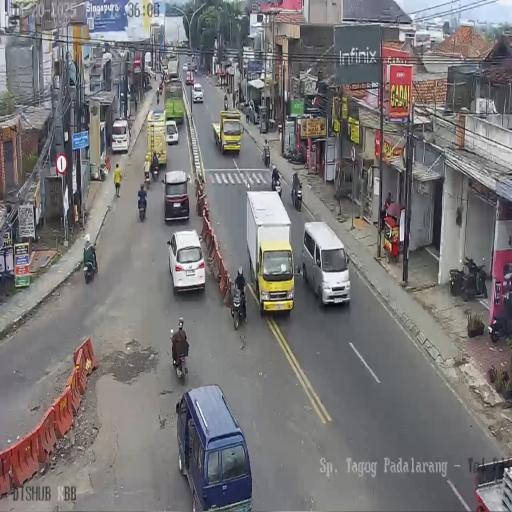car: (176, 384, 252, 510), (303, 220, 352, 307), (167, 230, 206, 294), (162, 168, 190, 222), (111, 118, 130, 154), (165, 120, 179, 147), (192, 84, 203, 104), (185, 70, 194, 86), (191, 60, 198, 72), (162, 67, 168, 81), (182, 63, 188, 71)
motorcycle: (450, 254, 488, 301), (489, 271, 512, 340), (231, 280, 248, 330), (170, 332, 188, 378), (84, 248, 98, 284), (284, 145, 305, 165), (291, 178, 302, 211), (138, 192, 147, 222), (152, 157, 159, 181), (263, 144, 270, 167), (144, 164, 151, 183), (245, 104, 250, 124), (277, 120, 282, 135), (159, 80, 164, 94), (156, 90, 159, 104), (154, 70, 156, 80)
truck: (245, 189, 291, 315), (214, 108, 244, 155), (146, 109, 168, 165), (164, 96, 184, 126), (167, 57, 179, 82), (144, 51, 152, 77)
